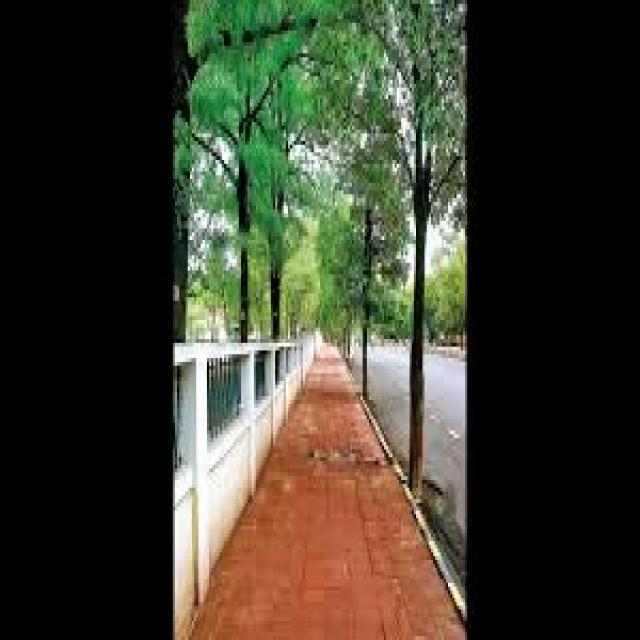tree ahead at: (402, 106, 440, 497), (357, 203, 382, 407)
